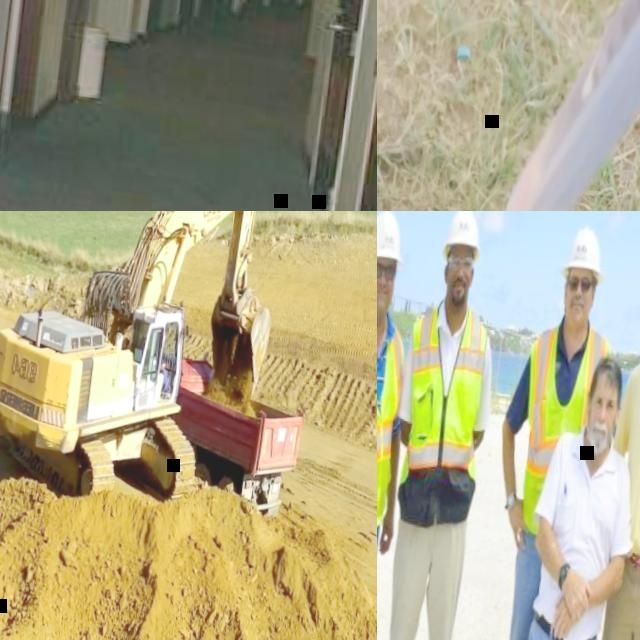Hardhat: (557, 226, 609, 280), (442, 211, 484, 252), (377, 211, 407, 258)
NO-Hardhat: (590, 355, 624, 392)
NO-Mask: (559, 298, 589, 332), (444, 277, 473, 307), (377, 281, 390, 320)
NO-Safety Vest: (528, 430, 628, 640), (612, 362, 640, 562)
Person: (467, 217, 627, 640), (377, 211, 514, 640), (513, 344, 640, 640), (577, 251, 640, 640), (377, 211, 431, 640), (147, 352, 173, 393)
Safety Vest: (508, 318, 611, 535), (391, 299, 494, 508), (377, 306, 408, 535)
machinery: (0, 211, 293, 517), (159, 354, 308, 516)
